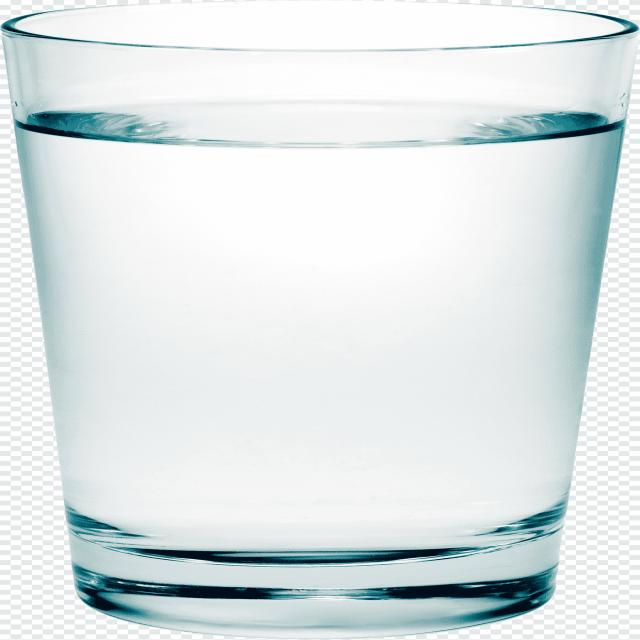Gelas: (7, 0, 637, 640)
